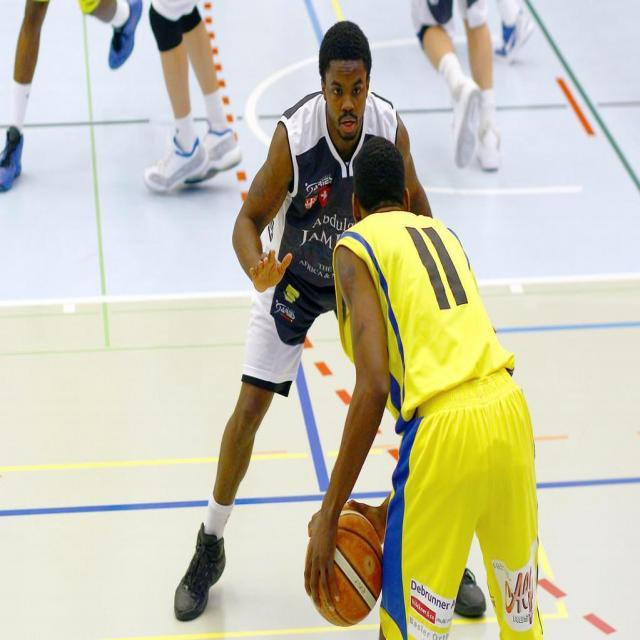rim: (309, 511, 383, 627)
